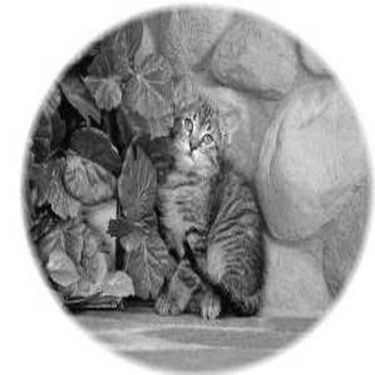cat: (92, 84, 320, 310)
